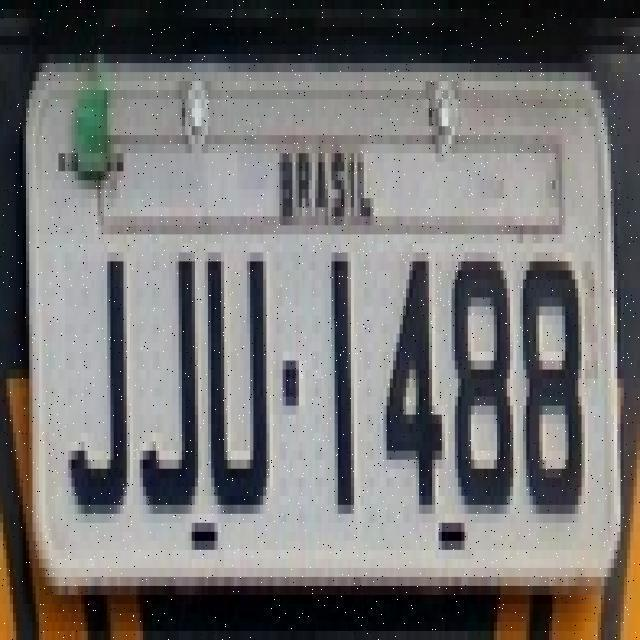LicensePlate: (15, 43, 624, 596)
